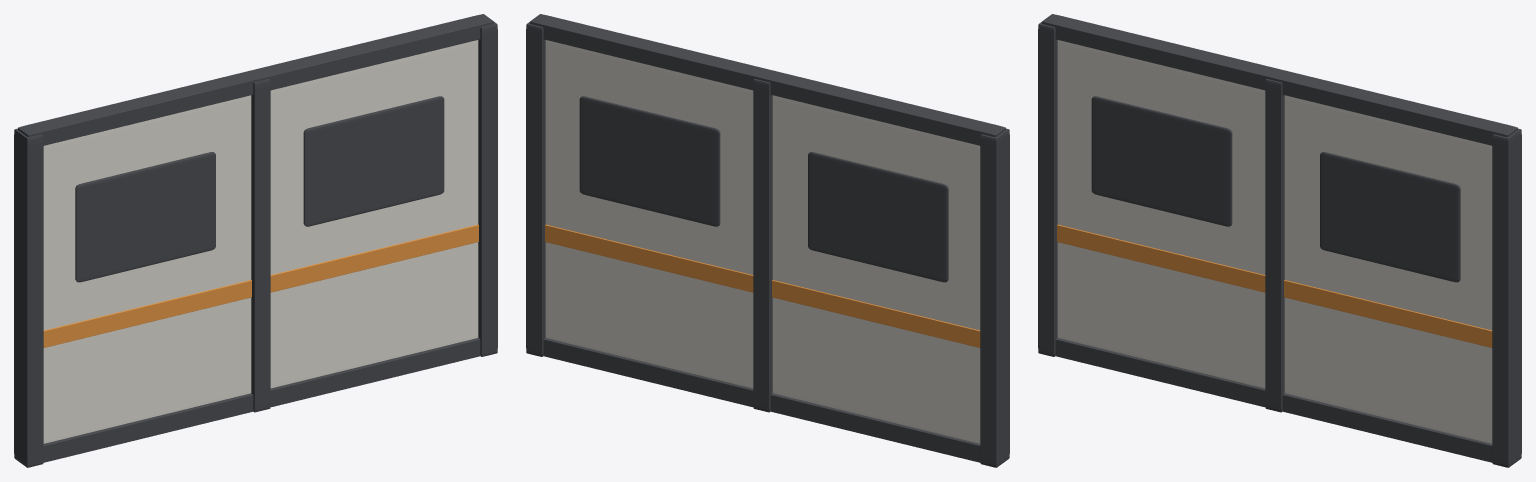
Rendered from wall.glb.
3 views of the same model, side by side, from view 1: azimuth 30°, elevation 25°; view 2: azimuth 150°, elevation 25°; view 3: azimuth 330°, elevation 25° (orthographic).
Parts seen in each view (by area): view 1: wall; view 2: wall; view 3: wall.
Part boxes in pixels (<box>): wall: <box>14,14,497,467</box>; wall: <box>526,14,1009,467</box>; wall: <box>1038,14,1521,467</box>.
Size of the model in its own units: 4.04 by 2.72 by 0.2.
